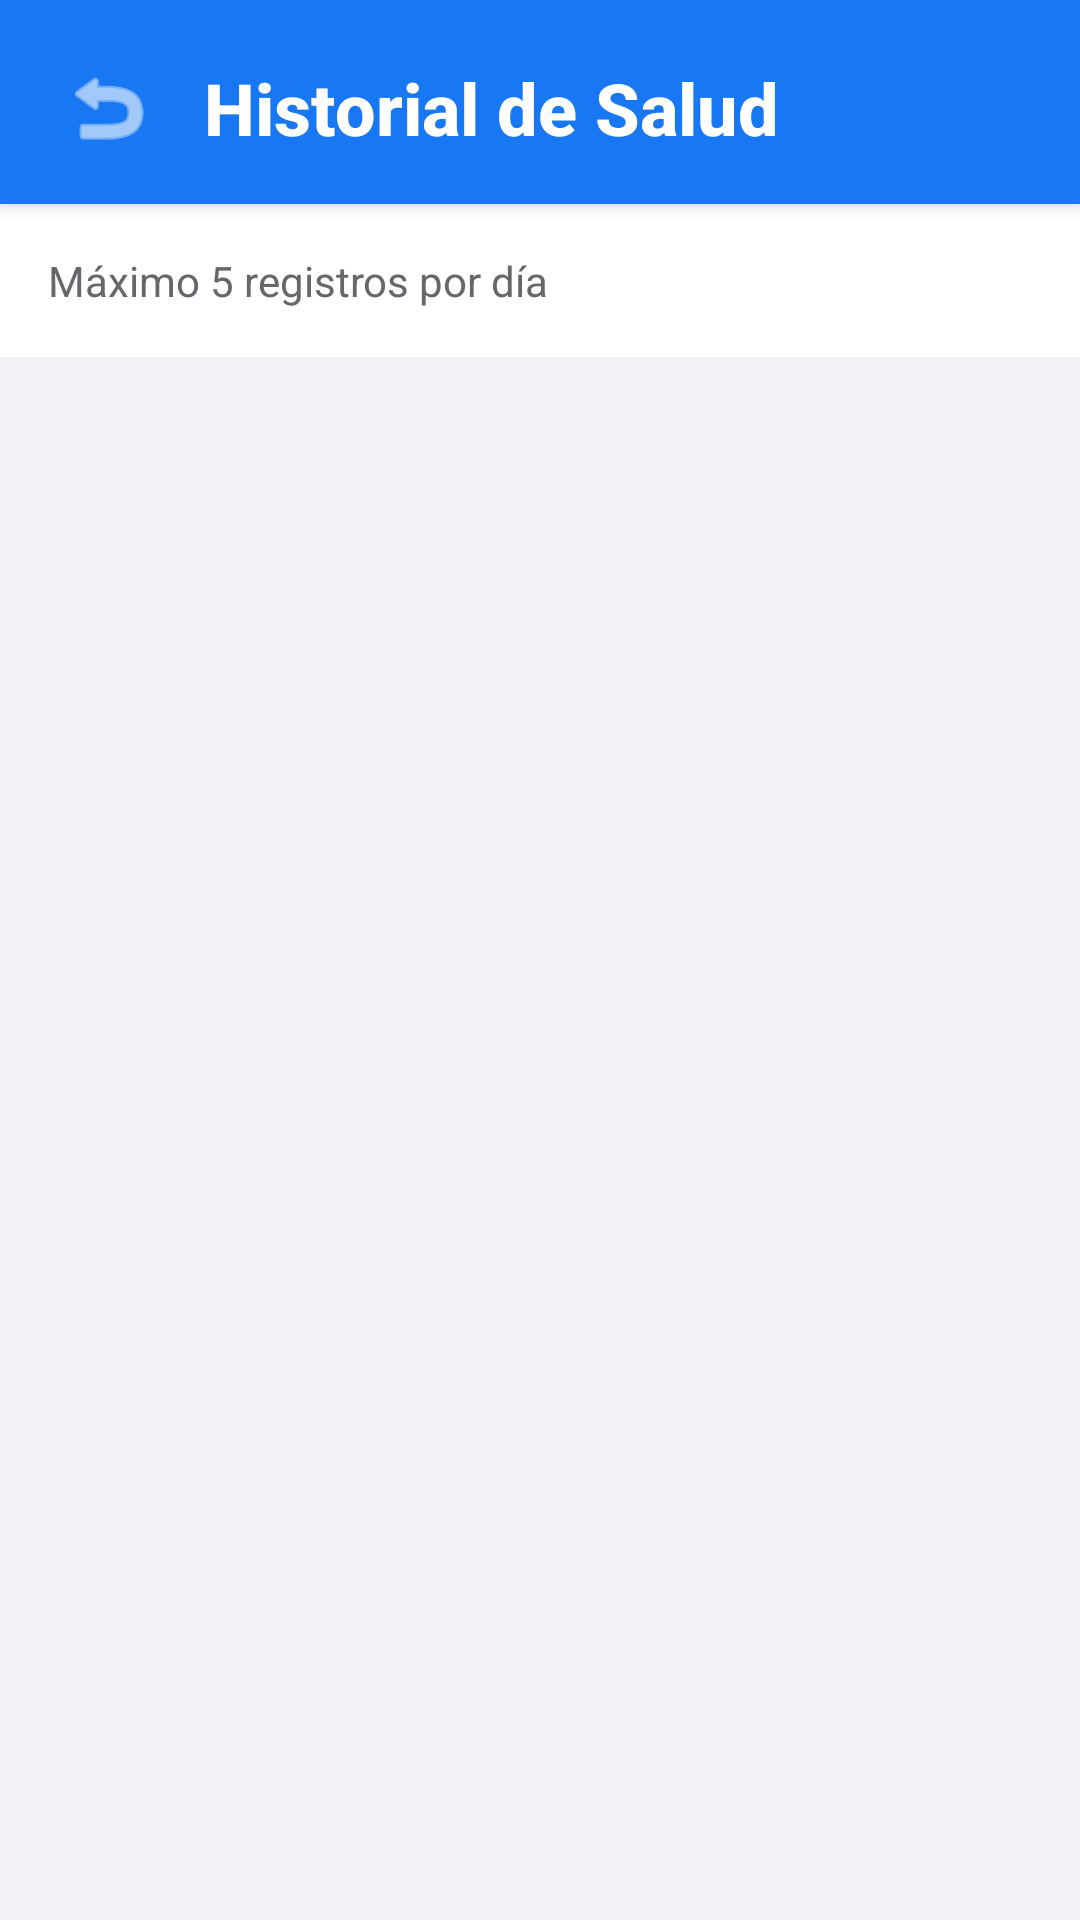

Locate icon controls on the screen. Image size 1080x1920, boxes as [x1, y1, x2, y2].
Volver: [75, 77, 144, 140]
